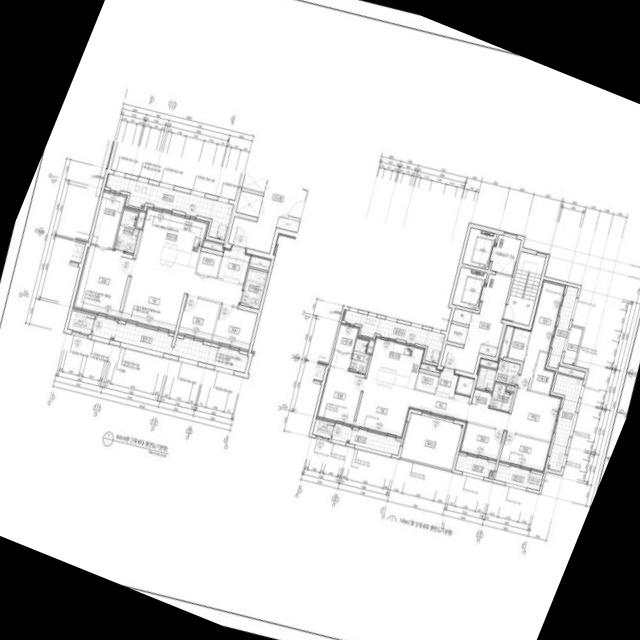background: (0, 0, 640, 640)
space_balconi: (67, 310, 248, 373), (104, 173, 233, 240), (344, 310, 444, 363), (400, 413, 462, 470), (547, 373, 583, 471), (548, 286, 578, 368), (331, 424, 401, 455), (494, 465, 542, 490), (454, 455, 495, 477), (562, 326, 582, 365)
space_bedroom: (517, 280, 565, 389), (72, 245, 133, 319), (316, 350, 364, 426), (212, 304, 257, 351), (499, 432, 550, 473), (177, 296, 219, 342), (459, 423, 503, 461)
space_dressroom: (90, 190, 127, 248), (530, 351, 555, 394), (507, 327, 530, 361), (334, 323, 359, 353)
space_elevator: (452, 267, 486, 310), (462, 228, 496, 269)
space_elevator_hall: (440, 235, 521, 373), (228, 179, 307, 253)
space_front: (217, 246, 250, 284), (434, 368, 458, 398)
space_kitchen: (135, 206, 209, 274), (366, 336, 425, 390)
space_living_room: (354, 378, 562, 441), (120, 259, 243, 333)
space_other: (236, 191, 263, 217), (196, 251, 221, 277), (498, 325, 513, 358), (415, 372, 438, 393), (446, 323, 468, 344), (242, 174, 267, 192), (312, 419, 334, 438), (455, 375, 474, 395), (451, 308, 472, 325), (276, 217, 299, 232), (557, 366, 585, 378), (249, 255, 270, 271), (202, 239, 223, 251), (479, 344, 497, 356), (420, 362, 439, 373), (479, 358, 498, 369), (136, 210, 146, 228), (367, 339, 374, 353), (506, 385, 514, 392)
space_staircase: (504, 252, 545, 325)
space_toilet: (475, 359, 520, 391), (471, 382, 513, 412), (239, 268, 267, 309), (114, 209, 139, 253), (349, 338, 369, 373)
